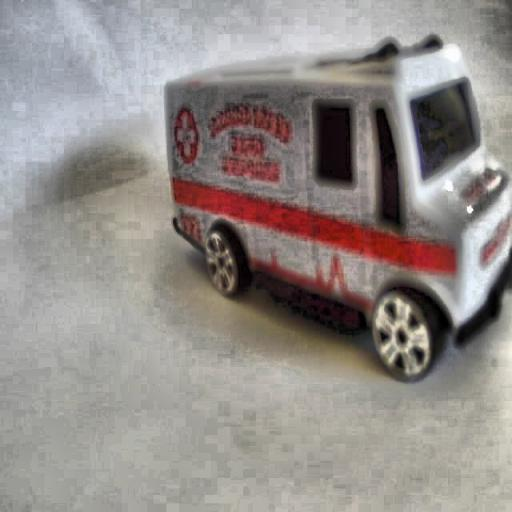ambulance: (165, 35, 511, 382)
